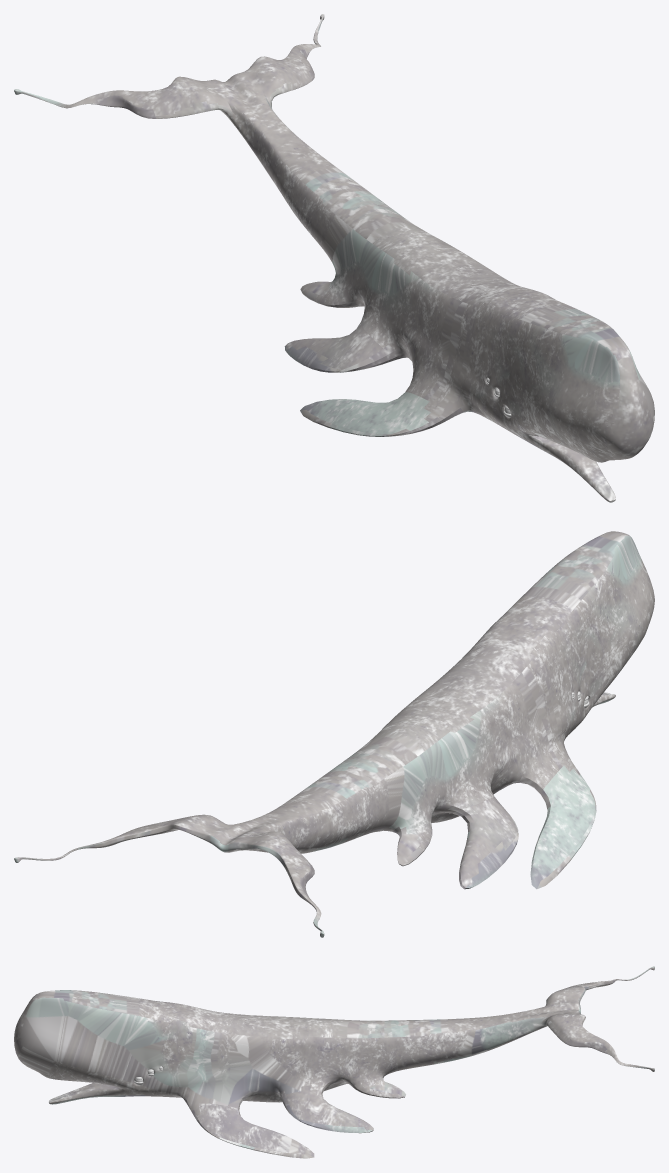
File: BO_Whale_grown_ani.fbx
3 renders of one model, top to bottom at view 1: azimuth 30°, elevation 25°; view 2: azimuth 150°, elevation 25°; view 3: azimuth 270°, elevation 25°, orthographic. The views are drawn at different scales.
Visible parts, largest first — view 1: Cube.021; view 2: Cube.021; view 3: Cube.021.
Boxes of the visible parts, x1,y1,x2,y2 form: Cube.021: [14, 14, 654, 502]; Cube.021: [14, 531, 654, 937]; Cube.021: [14, 966, 654, 1158].
Bounding box in the file's own units: 416 × 234 × 1092.
